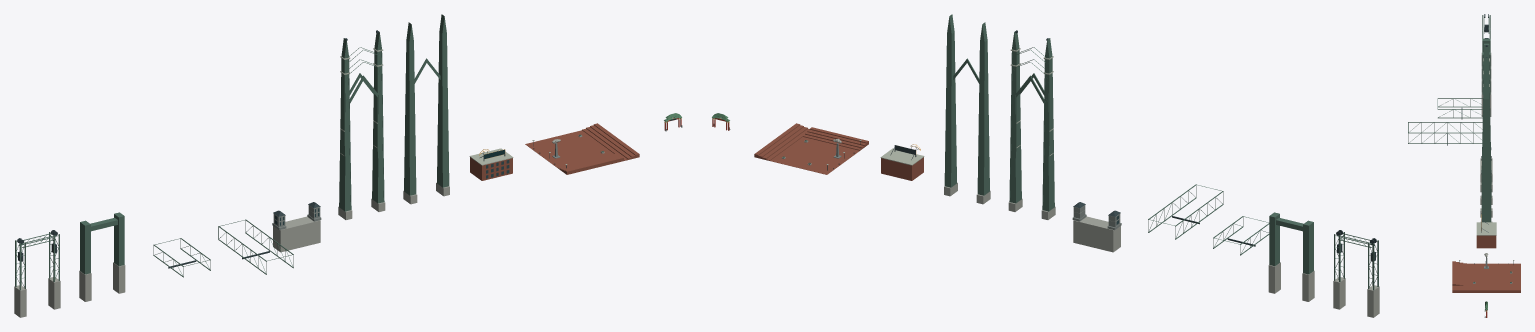
File: pdx-landmarks.glb
The picture shows the model from 3 angles, left to right: view 1: azimuth 30°, elevation 25°; view 2: azimuth 150°, elevation 25°; view 3: azimuth 270°, elevation 25°; orthographic projection. The views are drawn at different scales.
Visible parts, largest first — view 1: pdx_st_johns_tower_lod0_body, pdx_st_johns_tower_lod1_body, pdx_lift_tower_lod1_body, pdx_plaza_paving, pdx_lift_tower_lod0_body, pdx_bascule_pier_body, pdx_plaza_body, pdx_roof_sign_body, pdx_lift_span_body, pdx_truss_bay_body; view 2: pdx_st_johns_tower_lod0_body, pdx_st_johns_tower_lod1_body, pdx_lift_tower_lod1_body, pdx_plaza_paving, pdx_lift_tower_lod0_body, pdx_bascule_pier_body, pdx_plaza_body, pdx_roof_sign_body, pdx_lift_span_body; view 3: pdx_st_johns_tower_lod1_body, pdx_plaza_paving, pdx_plaza_body, pdx_roof_sign_body, pdx_st_johns_tower_lod0_body, pdx_lift_span_body, pdx_truss_bay_body, pdx_lift_tower_lod1_body, pdx_lift_tower_lod0_body, pdx_bascule_pier_body.
Boxes of the visible parts, x1,y1,x2,y2 form: pdx_st_johns_tower_lod0_body: [338, 30, 385, 219]; pdx_st_johns_tower_lod1_body: [403, 14, 449, 204]; pdx_lift_tower_lod1_body: [79, 212, 125, 301]; pdx_plaza_paving: [525, 130, 613, 173]; pdx_lift_tower_lod0_body: [14, 230, 60, 317]; pdx_bascule_pier_body: [272, 202, 321, 252]; pdx_plaza_body: [532, 123, 639, 174]; pdx_roof_sign_body: [469, 148, 513, 180]; pdx_lift_span_body: [218, 219, 293, 274]; pdx_truss_bay_body: [153, 238, 210, 277]; pdx_st_johns_tower_lod0_body: [1008, 30, 1055, 219]; pdx_st_johns_tower_lod1_body: [944, 14, 990, 204]; pdx_lift_tower_lod1_body: [1268, 212, 1314, 301]; pdx_plaza_paving: [770, 137, 859, 174]; pdx_lift_tower_lod0_body: [1333, 230, 1379, 317]; pdx_bascule_pier_body: [1072, 202, 1121, 252]; pdx_plaza_body: [754, 123, 868, 170]; pdx_roof_sign_body: [880, 145, 924, 180]; pdx_lift_span_body: [1148, 184, 1223, 239]; pdx_st_johns_tower_lod1_body: [1480, 70, 1492, 222]; pdx_plaza_paving: [1453, 263, 1520, 292]; pdx_plaza_body: [1452, 260, 1520, 292]; pdx_roof_sign_body: [1476, 219, 1496, 248]; pdx_st_johns_tower_lod0_body: [1480, 45, 1492, 204]; pdx_lift_span_body: [1408, 122, 1482, 145]; pdx_truss_bay_body: [1437, 98, 1482, 119]; pdx_lift_tower_lod1_body: [1481, 38, 1491, 116]; pdx_lift_tower_lod0_body: [1481, 14, 1491, 78]; pdx_bascule_pier_body: [1480, 147, 1492, 192].
Size of the model in its own units: 512 by 145 by 92.
